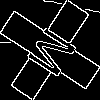M: (25, 25, 87, 85)
